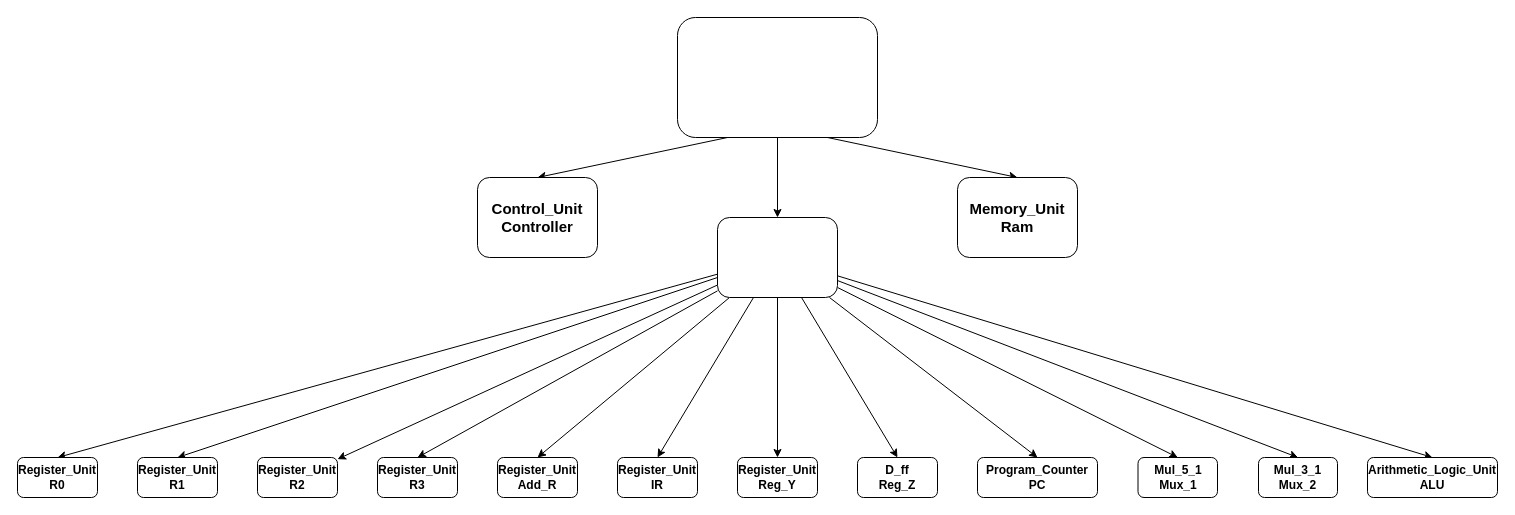
The diagram is 1515 pixels wide and 515 high, and some of its shapes have lost their labels. Here are the shapes that lost their labels. From the top down, the box of each, then its label:
(676, 16, 878, 138): RISC_SPM MCU
(716, 216, 838, 298): Processing_Unit Processor
